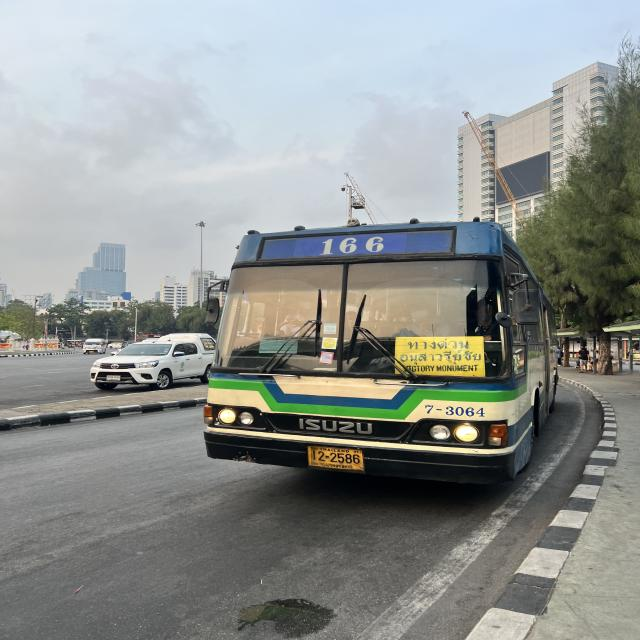BMTA-bus: (203, 218, 557, 487)
Bus Line Number: (312, 230, 393, 264)
Bus Side Number: (422, 400, 491, 422)
Destination Sign: (395, 336, 489, 377)
